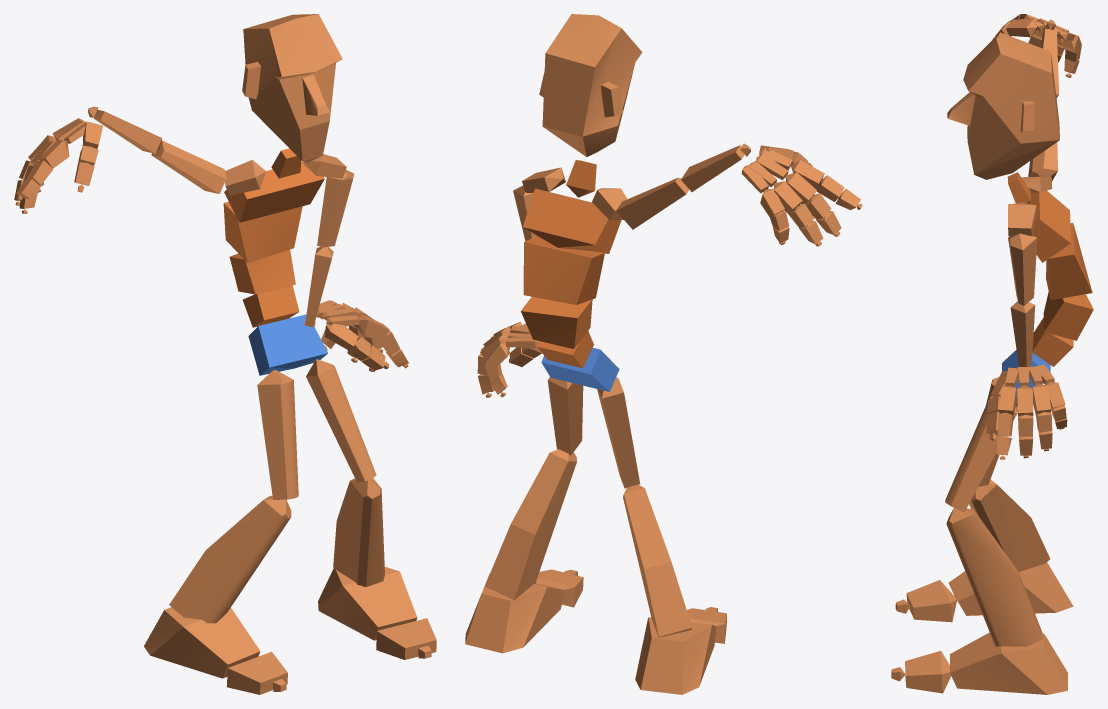
3 renders of one model, left to right at view 1: azimuth 30°, elevation 25°; view 2: azimuth 150°, elevation 25°; view 3: azimuth 270°, elevation 25°, orthographic. The views are drawn at different scales.
Parts seen in each view (by area): view 1: BOPED_Head, BOPED_R_leg, BOPED_R_foot, BOPED_L_leg, BOPED_R_foot01, BOPED_R_legup, BOPED_L_legup, Bone01, Bone04, Bone05, Bone03, BOPED_R_arm_upper (+8 smaller); view 2: BOPED_Head, BOPED_L_leg, BOPED_R_leg, BOPED_R_foot01, BOPED_R_foot, Bone04, Bone05, Bone03, BOPED_R_legup, BOPED_L_legup, Bone01, BOPED_R_arm_upper (+7 smaller); view 3: BOPED_Head, BOPED_L_leg, BOPED_R_foot01, BOPED_R_leg, BOPED_R_foot, BOPED_L_legup, Bone05, Bone04, Bone03, BOPED_R_foot_toe01, BOPED_L_arm_upper, BOPED_R_foot_toe04 (+16 smaller).
Boxes of the visible parts, x1,y1,x2,y2 form: BOPED_Head: (242,14,342,162); BOPED_R_leg: (169,495,291,623); BOPED_R_foot: (144,607,260,678); BOPED_L_leg: (333,478,384,586); BOPED_R_foot01: (318,566,417,640); BOPED_R_legup: (257,370,298,499); BOPED_L_legup: (306,359,376,482); Bone01: (248,314,327,375); Bone04: (223,201,302,263); Bone05: (224,161,324,222); Bone03: (229,249,295,294); BOPED_R_arm_upper: (151,140,227,193); BOPED_Head: (539,14,642,156); BOPED_L_leg: (484,449,576,600); BOPED_R_leg: (623,484,692,637); BOPED_R_foot01: (465,573,564,653); BOPED_R_foot: (635,617,716,694); Bone04: (523,236,604,304); Bone05: (523,188,621,253); Bone03: (521,297,592,348); BOPED_R_legup: (597,377,640,488); BOPED_L_legup: (547,377,583,455); Bone01: (541,348,619,391); BOPED_R_arm_upper: (616,177,689,229); BOPED_Head: (947,32,1059,179); BOPED_L_leg: (946,508,1042,646); BOPED_R_foot01: (950,632,1067,694); BOPED_R_leg: (969,479,1050,571); BOPED_R_foot: (948,562,1073,615); BOPED_L_legup: (945,396,1017,512); Bone05: (1029,190,1070,262); Bone04: (1046,222,1092,300); Bone03: (1043,292,1093,340); BOPED_R_foot_toe01: (906,580,957,622); BOPED_L_arm_upper: (1008,233,1037,305); BOPED_R_foot_toe04: (905,651,950,693).
Size of the model in its own units: 121 by 187 by 56.5.
